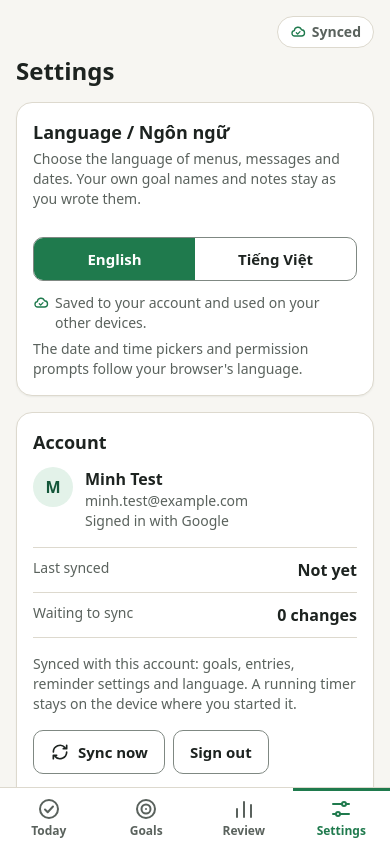
Test: Settings — signed-in copy (M7-AC15, DESIGN S7) › Sync now that applies preferences from the account keeps the prefsFromAccount toast (no "Everything is up to date" over it)
The width and height of the screenshot is (390, 844).
Click the button with test id "sync-now".
click(99, 752)  # box [33,730,165,774]
(page scrolled)
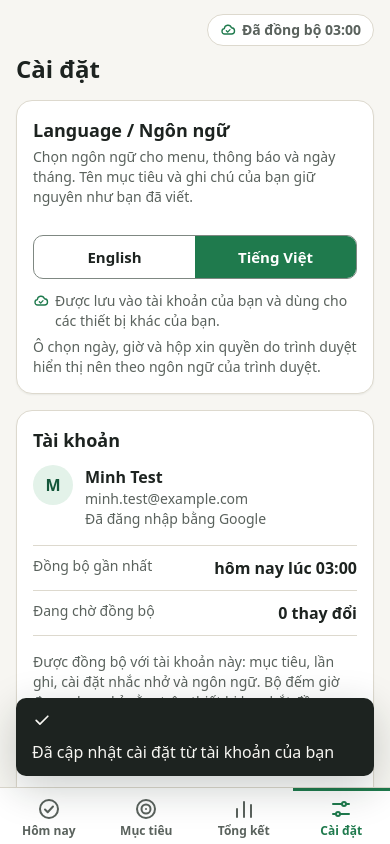
Expected: the element with test id "toast" does not show "Mọi thứ đã được cập nhật", [16,698,374,776]
Result: the element with test id "toast" reads "Đã cập nhật cài đặt từ tài khoản của bạn" at [32,741,334,763]
